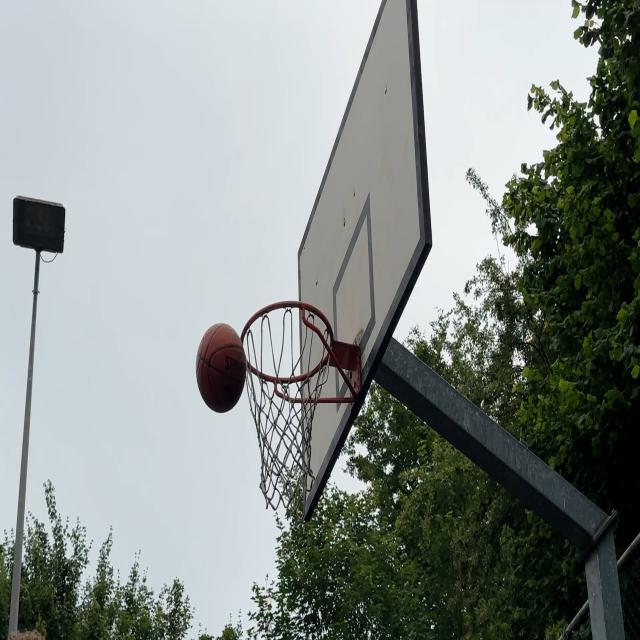Basketball: (197, 324, 247, 414)
